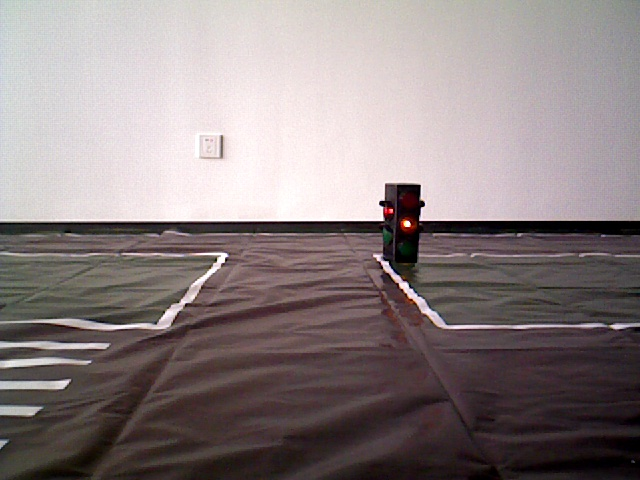yellow: (383, 180, 420, 262)
